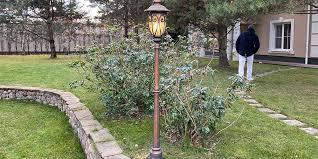Animal: (141, 1, 173, 157)
